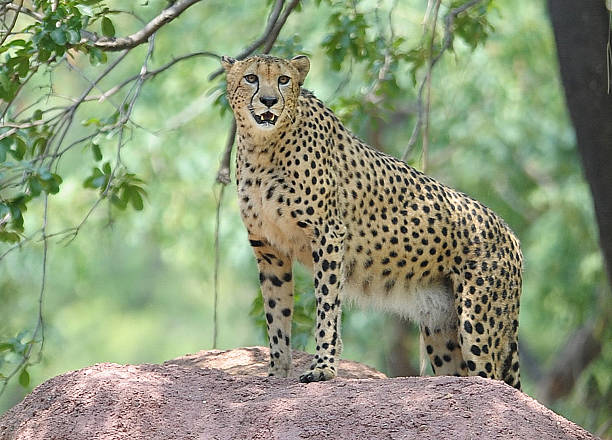cheetah: (213, 46, 325, 148)
